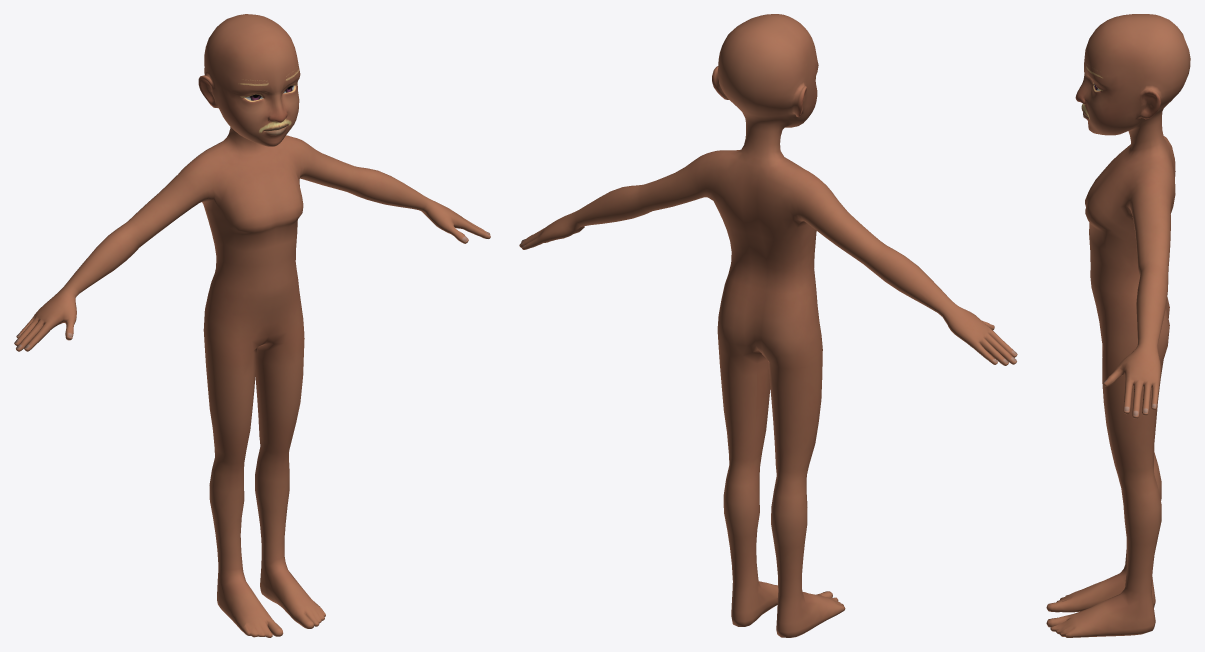
Rendered from frame_0016.glb.
The picture shows the model from 3 angles, left to right: view 1: azimuth 30°, elevation 25°; view 2: azimuth 150°, elevation 25°; view 3: azimuth 270°, elevation 25°; orthographic projection. The views are drawn at different scales.
Visible parts, largest first — view 1: frame_0016_head_geo; view 2: frame_0016_head_geo; view 3: frame_0016_head_geo.
Part boxes in pixels (<box>): frame_0016_head_geo: <box>14,14,490,637</box>; frame_0016_head_geo: <box>519,14,1017,637</box>; frame_0016_head_geo: <box>1046,14,1190,637</box>.
Size of the model in its own units: 1.28 by 1.5 by 0.3253.
Materials: 3 (3 with a texture image).
